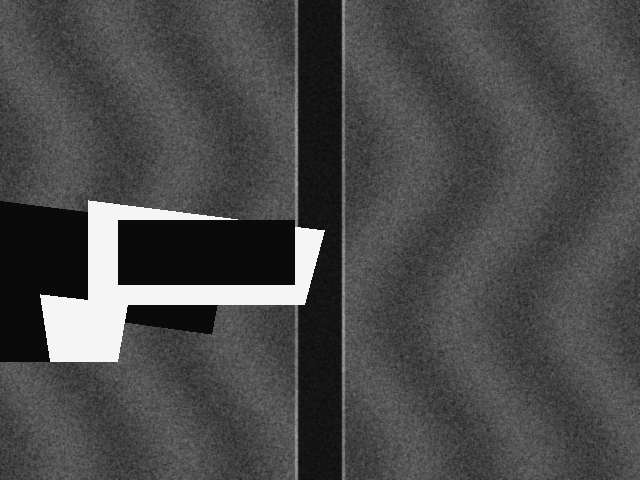Other Man-made Debris: (40, 294, 127, 361)
Ship/Boat Debris: (88, 200, 324, 304)
